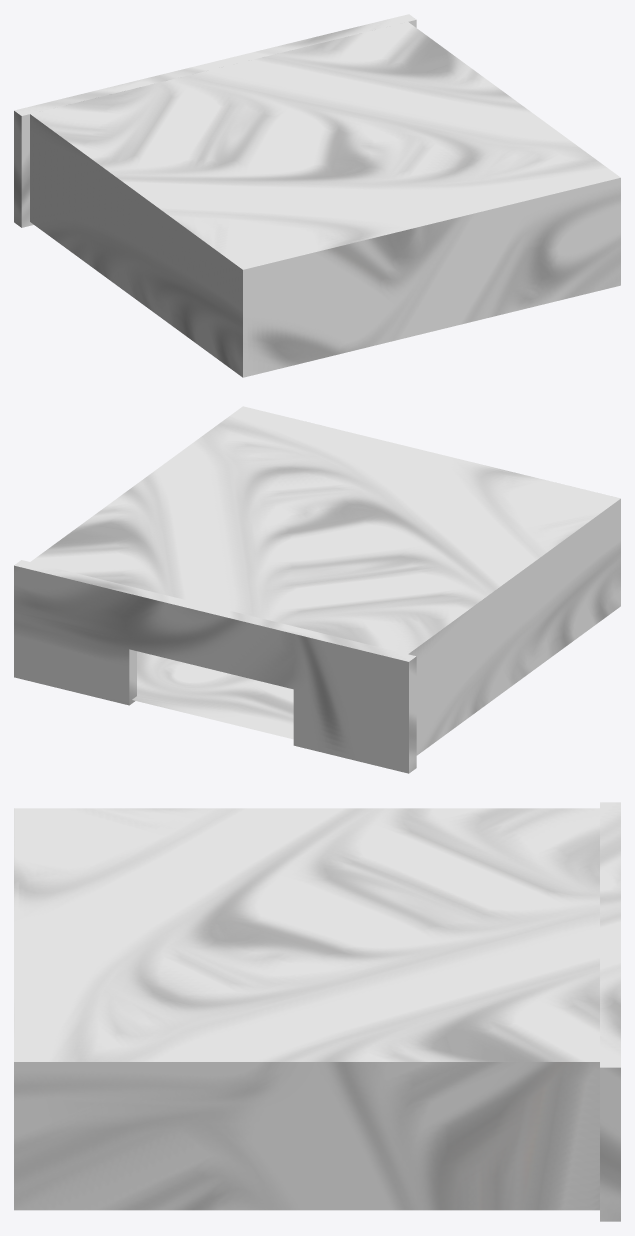
The model's file is room.obj.
The picture shows the model from 3 angles, top to bottom: view 1: azimuth 30°, elevation 25°; view 2: azimuth 150°, elevation 25°; view 3: azimuth 270°, elevation 25°; orthographic projection. The views are drawn at different scales.
Visible parts, largest first — view 1: Cube; view 2: Cube; view 3: Cube.
Part boxes in pixels (x1,y1,x2,y2): Cube: [14, 14, 620, 377]; Cube: [14, 406, 620, 773]; Cube: [14, 802, 620, 1221].
Size of the model in its own units: 22.99 by 6.22 by 22.23.
